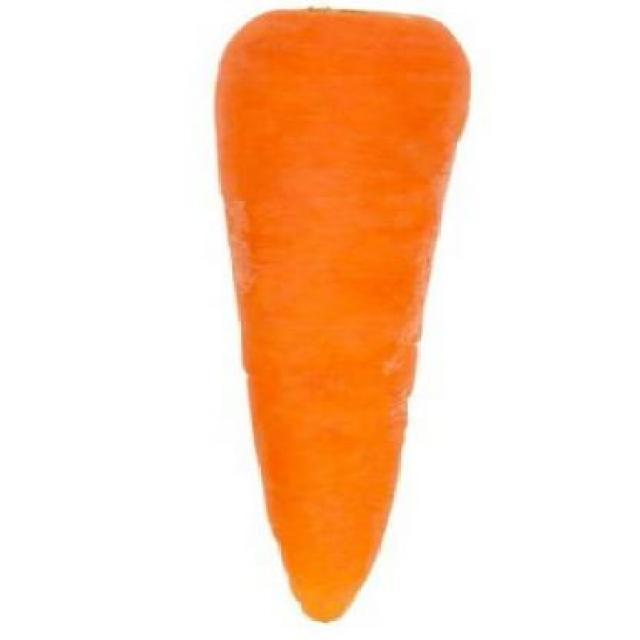carrot: (206, 6, 481, 624)
